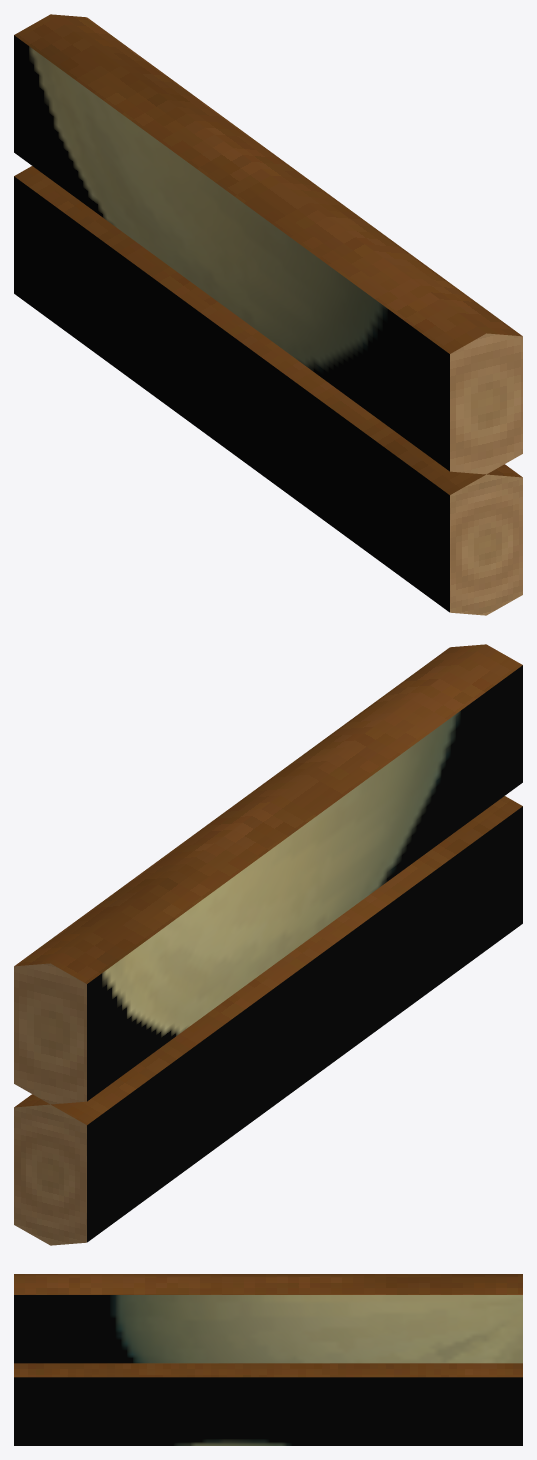
File: Docks_Bumper_1_1x1.fbx
The picture shows the model from 3 angles, top to bottom: view 1: azimuth 30°, elevation 25°; view 2: azimuth 150°, elevation 25°; view 3: azimuth 270°, elevation 25°; orthographic projection. The views are drawn at different scales.
Visible parts, largest first — view 1: Docks_Bumper_1_1x1; view 2: Docks_Bumper_1_1x1; view 3: Docks_Bumper_1_1x1.
Part boxes in pixels (left/top/right/bottom): Docks_Bumper_1_1x1: left=14, top=14, right=522, bottom=615; Docks_Bumper_1_1x1: left=14, top=644, right=522, bottom=1245; Docks_Bumper_1_1x1: left=14, top=1274, right=522, bottom=1445.
Bounding box in the file's own units: 9.38 × 34.6 × 96.88.
